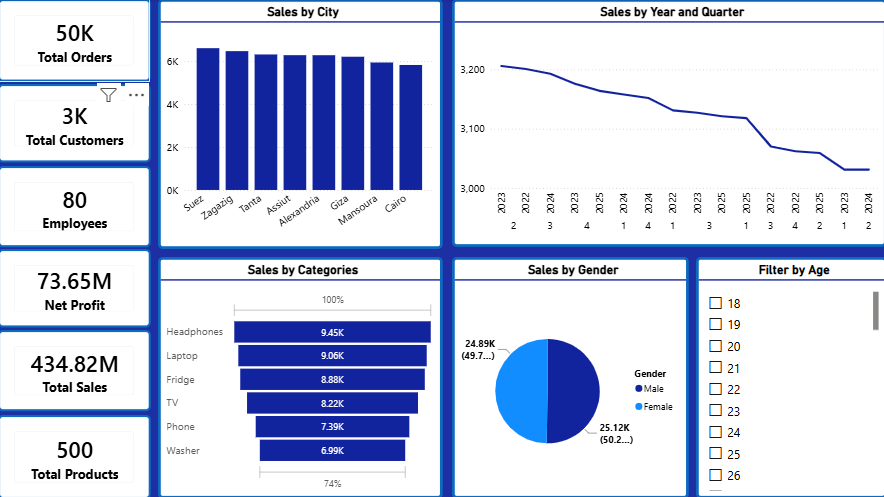

Layout of this report page (visuals, bound fields, positions):
{"tool":"powerbi","page":{"name":"Customer Behavior","canvas":[1280,720],"ordinal":2},"visuals":[{"type":"cardVisual","fields":{"Data":["Count(Gold Dim_Customer.CustomerName)"]},"box":[0,122.9,219.5,113],"z":0},{"type":"cardVisual","fields":{"Data":["CountNonNull(Gold Fact_Sales.SalesKey)"]},"box":[0,0,219.5,119],"z":1},{"type":"cardVisual","fields":{"Data":["Sum(Gold Fact_Sales.Net Profit)"]},"box":[0,360,219.5,113],"z":2},{"type":"cardVisual","fields":{"Data":["Sum(Gold Fact_Sales.TotalAmount)"]},"box":[0,477.1,219.5,117],"z":3},{"type":"cardVisual","fields":{"Data":["CountNonNull(Gold Dim_Product.ProductID)"]},"box":[0,598.5,219.5,121.5],"z":4},{"type":"cardVisual","fields":{"Data":["Count(Gold Dim_Employee.EmployeeName)"]},"box":[0,240,219.5,117],"z":5},{"type":"clusteredColumnChart","title":"Sales by City","fields":{"Category":["Gold Dim_Customer.City"],"Y":["CountNonNull(Gold Fact_Sales.SalesKey)"]},"box":[229.8,0,409.8,360],"z":6},{"type":"funnel","title":"Sales by Categories","fields":{"Category":["Gold Dim_Product.Category"],"Y":["CountNonNull(Gold Fact_Sales.SalesKey)"]},"box":[229.8,371.7,409.8,348.3],"z":7},{"type":"lineChart","title":"Sales by Year and Quarter","fields":{"Category":["Gold Dim_Date.Quarter","Gold Dim_Date.Year"],"Y":["CountNonNull(Gold Fact_Sales.SalesKey)"]},"box":[654.1,0,626.3,357.1],"z":8},{"type":"pieChart","title":"Sales by Gender","fields":{"Category":["Gold Dim_Customer.Gender"],"Y":["CountNonNull(Gold Fact_Sales.SalesKey)"]},"box":[654.1,371.7,341,348.3],"z":9},{"type":"slicer","title":"Filter by Age","fields":{"Values":["Gold Dim_Customer.Age"]},"box":[1005.4,371.7,275.1,348.3],"z":10}]}

Visuals, with their boxes in screenshot pixels (x1, y1, x2, y2), scaled from the page's 1280x720 canvas onto the 884x497 screenshot:
cardVisual - Count(Gold Dim_Customer.CustomerName): [0, 85, 152, 163]
cardVisual - CountNonNull(Gold Fact_Sales.SalesKey): [0, 0, 152, 82]
cardVisual - Sum(Gold Fact_Sales.Net Profit): [0, 248, 152, 327]
cardVisual - Sum(Gold Fact_Sales.TotalAmount): [0, 329, 152, 410]
cardVisual - CountNonNull(Gold Dim_Product.ProductID): [0, 413, 152, 496]
cardVisual - Count(Gold Dim_Employee.EmployeeName): [0, 166, 152, 246]
"Sales by City" clusteredColumnChart: [159, 0, 442, 248]
"Sales by Categories" funnel: [159, 257, 442, 496]
"Sales by Year and Quarter" lineChart: [452, 0, 883, 246]
"Sales by Gender" pieChart: [452, 257, 687, 496]
"Filter by Age" slicer: [694, 257, 883, 496]
